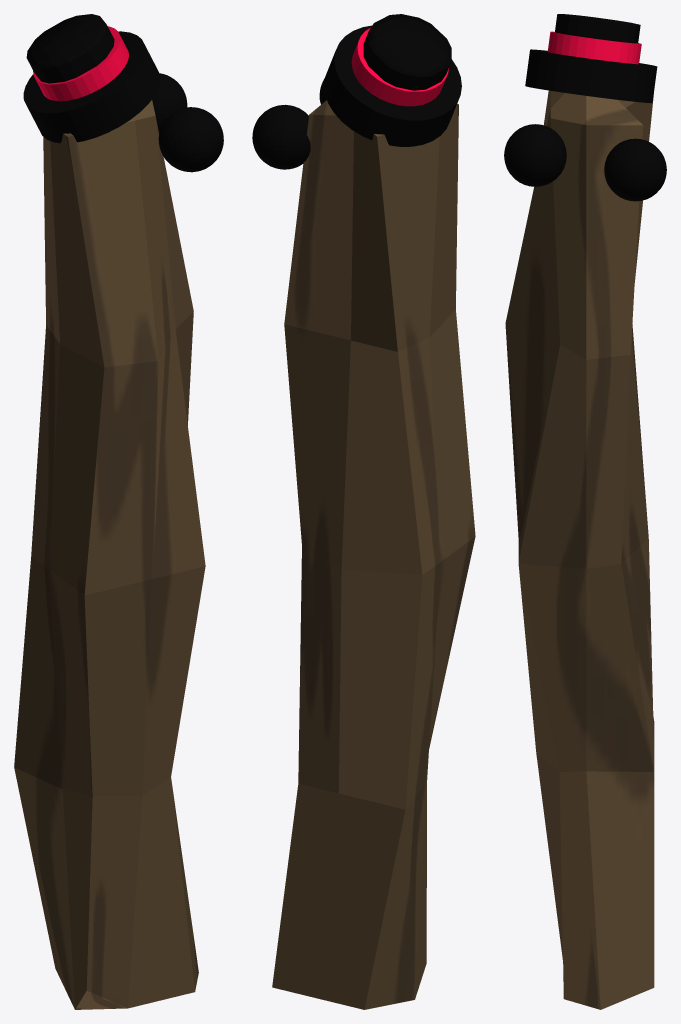
Rendered from pet-pablo-the-stick.glb.
3 views of the same model, side by side, from view 1: azimuth 30°, elevation 25°; view 2: azimuth 150°, elevation 25°; view 3: azimuth 270°, elevation 25° (orthographic). The views are drawn at different scales.
Bounding box in the file's own units: 0.0471 × 0.2545 × 0.0398.
Materials: 3 (1 with a texture image).
